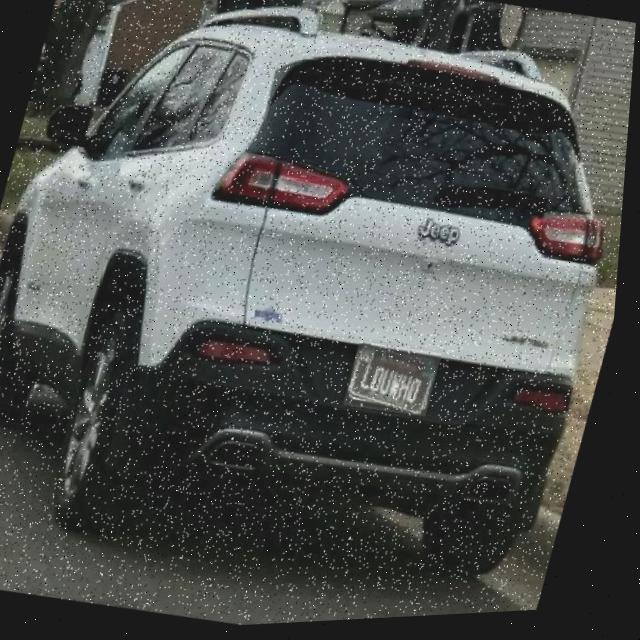LicensePlate: (352, 347, 445, 421)
